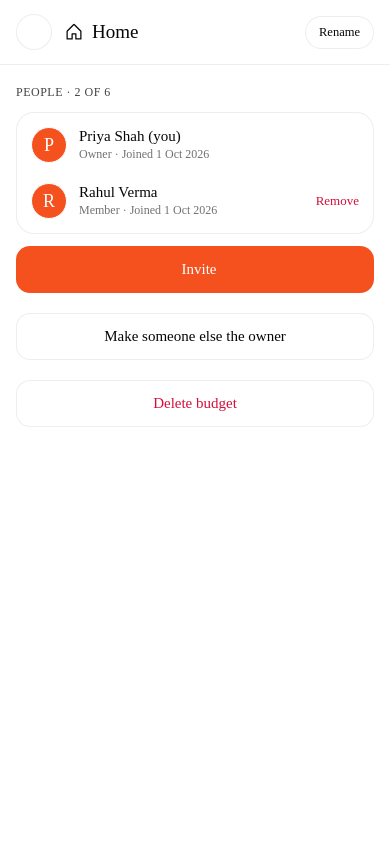
Test case: as the owner › invites through the share sheet and shows the code big
Expected: the text "Rahul Verma" is shown, x1=79 y1=184 x2=158 y2=200
Expected: the text "Owner · Joined 1 Oct 2026" is shown, x1=79 y1=147 x2=209 y2=161
Click the button with test id "invite".
click(195, 270)  # box x1=16 y1=246 x2=374 y2=293
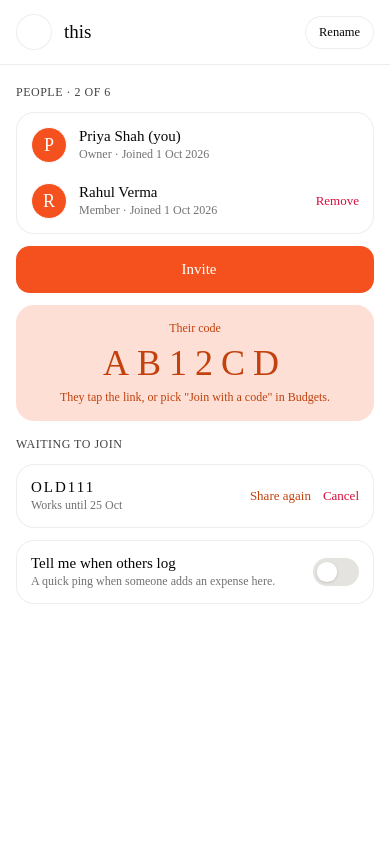
Expected: the text with test id "invite-code" reads "AB12CD", x1=103 y1=343 x2=287 y2=383
